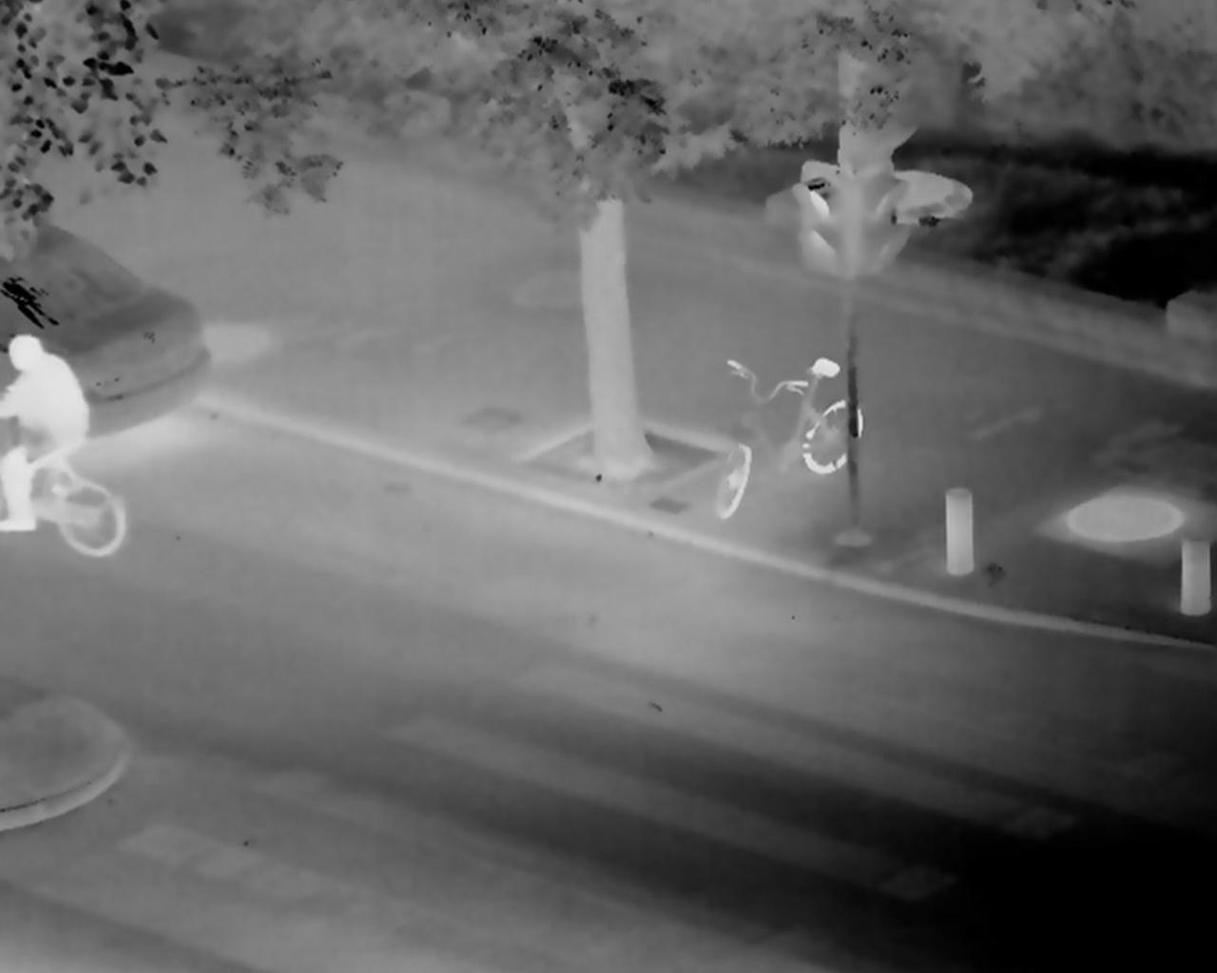person: (2, 329, 89, 540)
